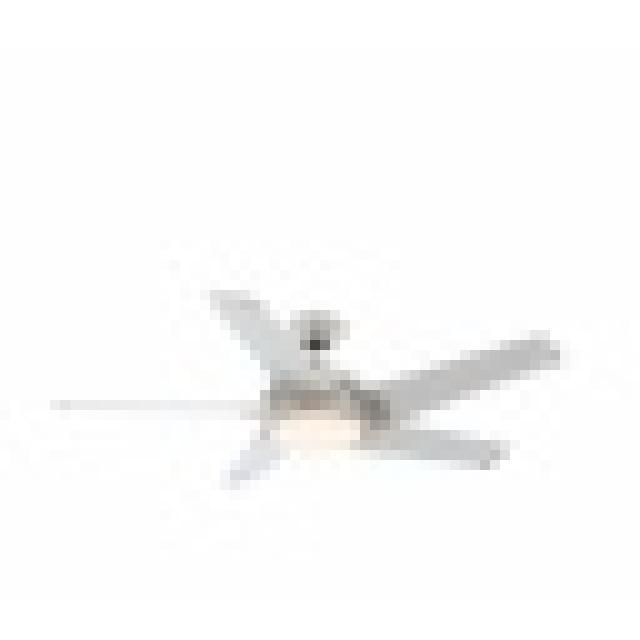fan_off: (50, 291, 565, 486)
